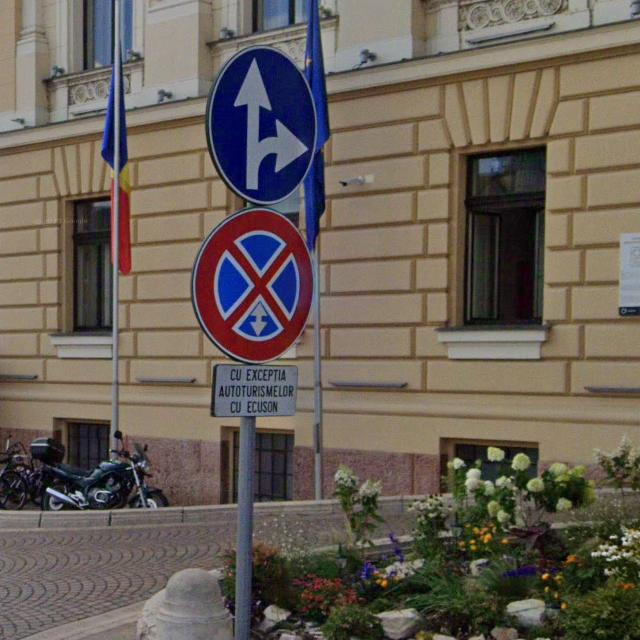forb_stopping: (192, 207, 314, 363)
mand_straight_right: (206, 49, 326, 204)
